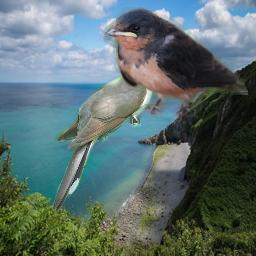Cuckoo: (52, 50, 176, 210)
Swallow: (104, 7, 248, 117)
